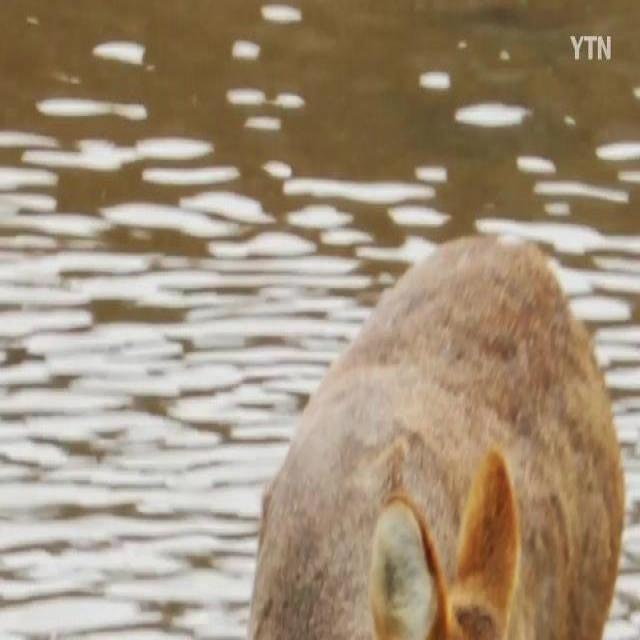deer: (245, 229, 628, 640)
